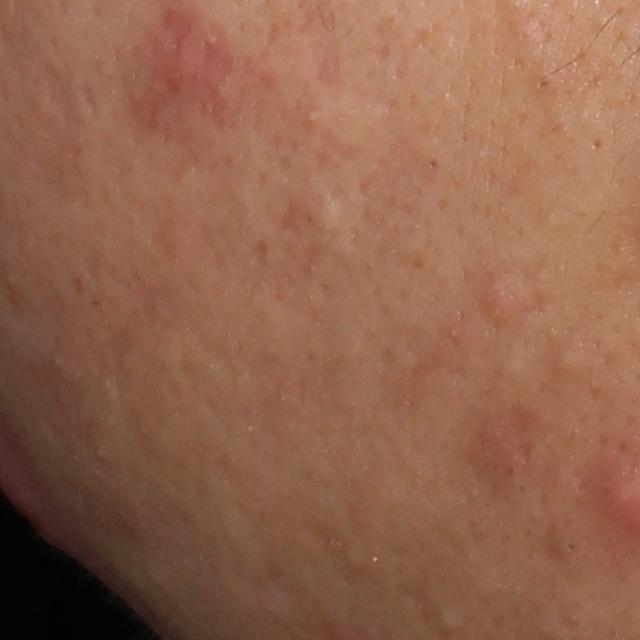atrophic_scar: (394, 567, 443, 633), (249, 233, 273, 271)
comedo: (440, 609, 469, 634)
papule: (143, 11, 233, 100), (478, 273, 527, 323)
